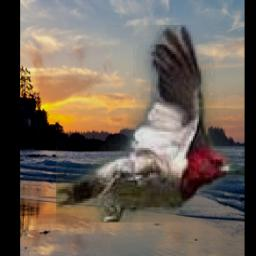Woodpecker: (56, 26, 245, 224)
